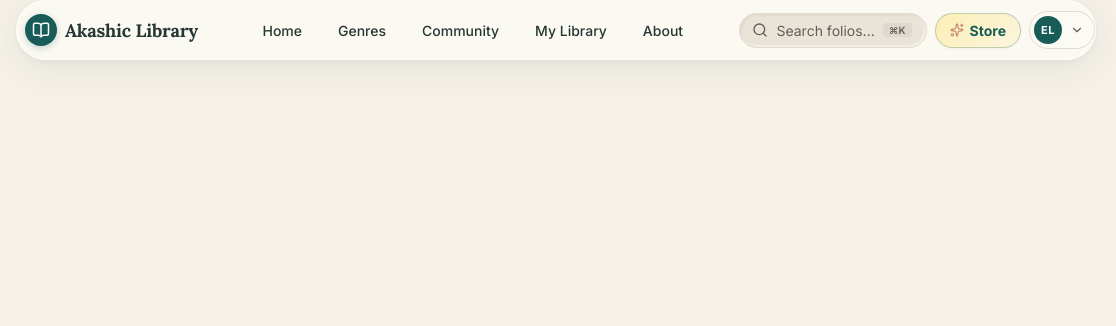
Scenario: Navbar Component › toggles profile dropdown with Account Settings, My Library and Sign Out when authenticated
This screenshot has width=1116, height=326.
Later steps or results of the test are not shown.
Open dropdown
What coordinates should you click on to do the following:
click the button with aria-label "Account menu for Elena Solanas"
I would click on:
 (1062, 30)
Its box is [1029,11,1095,49].
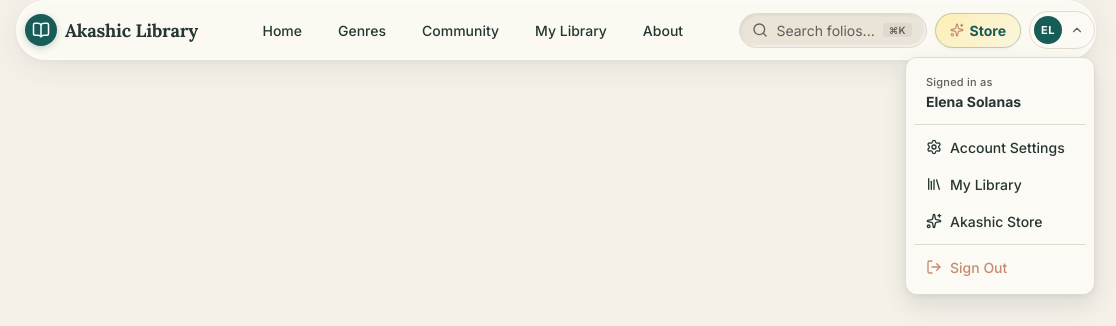
Expected: the button with aria-label "Account menu for Elena Solanas" is expanded, [1029,11,1095,49]
Expected: the menu named "User account menu" is shown, [905,57,1095,294]
Expected: the menu item "Account Settings" is shown, [914,128,1086,166]
